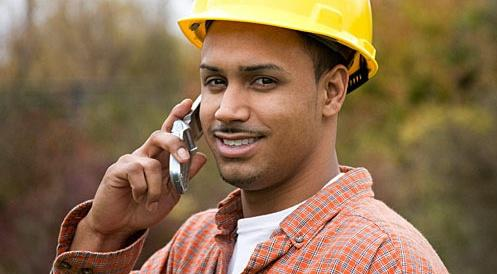helmet: (179, 1, 378, 83)
